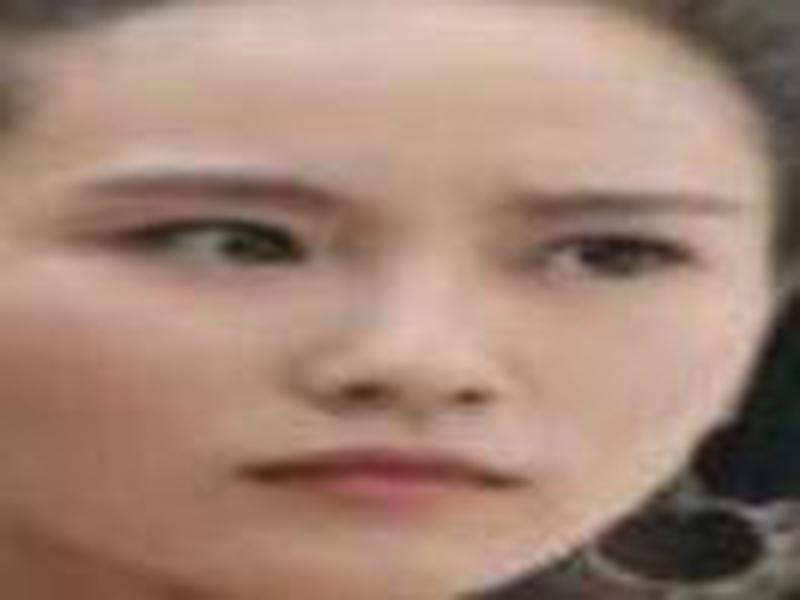without_mask: (12, 8, 778, 600)
